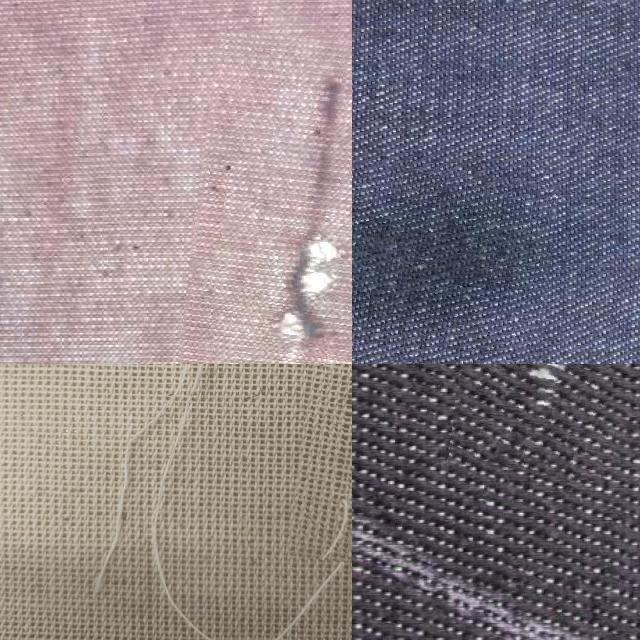Hole: (352, 157, 553, 364)
Thread_other: (183, 33, 352, 364), (454, 364, 623, 478), (293, 364, 352, 564)
